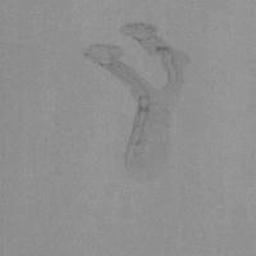Water spot: (82, 18, 192, 187)
